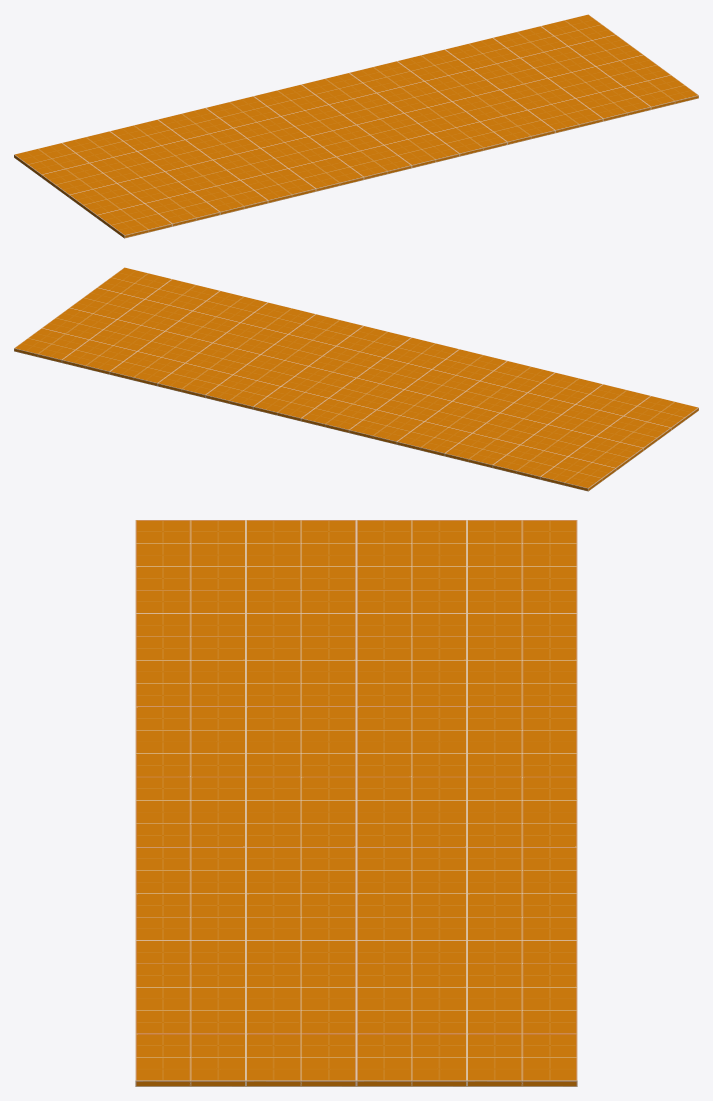
File: Plate16_12x4.obj
The picture shows the model from 3 angles, top to bottom: view 1: azimuth 30°, elevation 25°; view 2: azimuth 150°, elevation 25°; view 3: azimuth 270°, elevation 25°; orthographic projection. The views are drawn at different scales.
Parts seen in each view (by area): view 1: Plate16_12x4_Cube.455; view 2: Plate16_12x4_Cube.455; view 3: Plate16_12x4_Cube.455.
Boxes of the visible parts, x1,y1,x2,y2 form: Plate16_12x4_Cube.455: [14, 14, 698, 238]; Plate16_12x4_Cube.455: [14, 267, 698, 491]; Plate16_12x4_Cube.455: [135, 520, 577, 1086].
Size of the model in its own units: 12 by 0.0625 by 4.
Materials: 1 (1 with a texture image).
